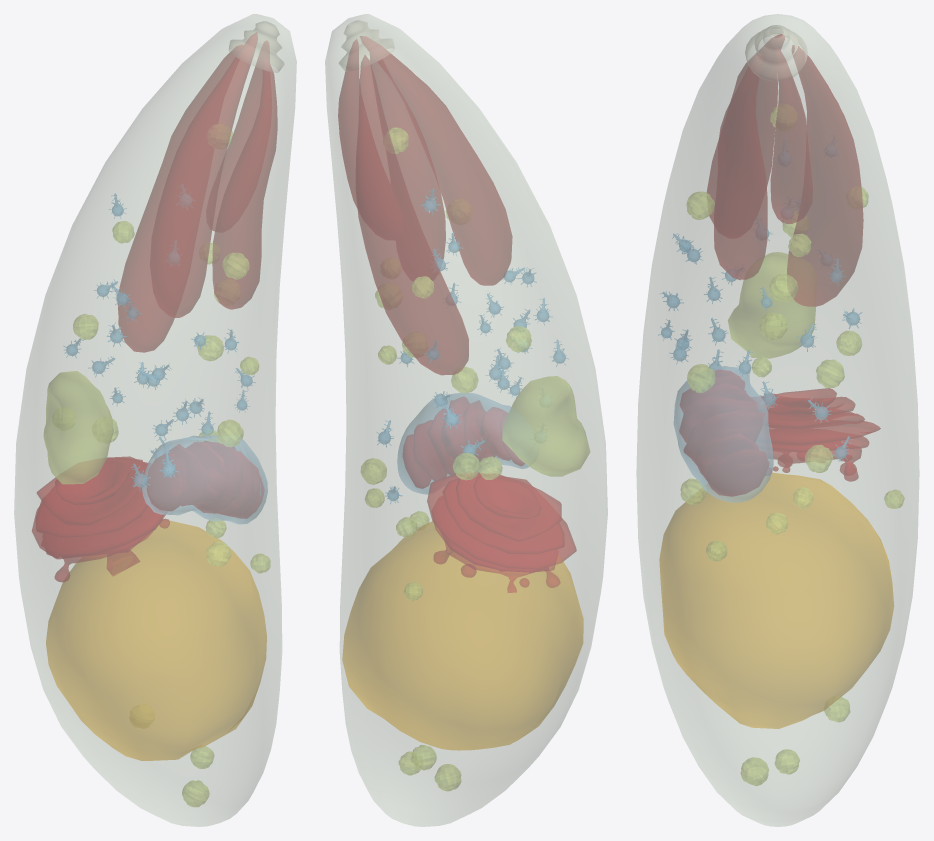
3 views of the same model, side by side, from view 1: azimuth 30°, elevation 25°; view 2: azimuth 150°, elevation 25°; view 3: azimuth 270°, elevation 25° (orthographic). The views are drawn at different scales.
Visible parts, largest first — view 1: ToxoplasmaGondii_OBJ; view 2: ToxoplasmaGondii_OBJ; view 3: ToxoplasmaGondii_OBJ.
Part boxes in pixels (left/top/right/bottom): ToxoplasmaGondii_OBJ: left=14, top=14, right=296, bottom=826; ToxoplasmaGondii_OBJ: left=325, top=14, right=607, bottom=826; ToxoplasmaGondii_OBJ: left=636, top=14, right=919, bottom=826.
Size of the model in its own units: 0.1709 by 0.5 by 0.154.
